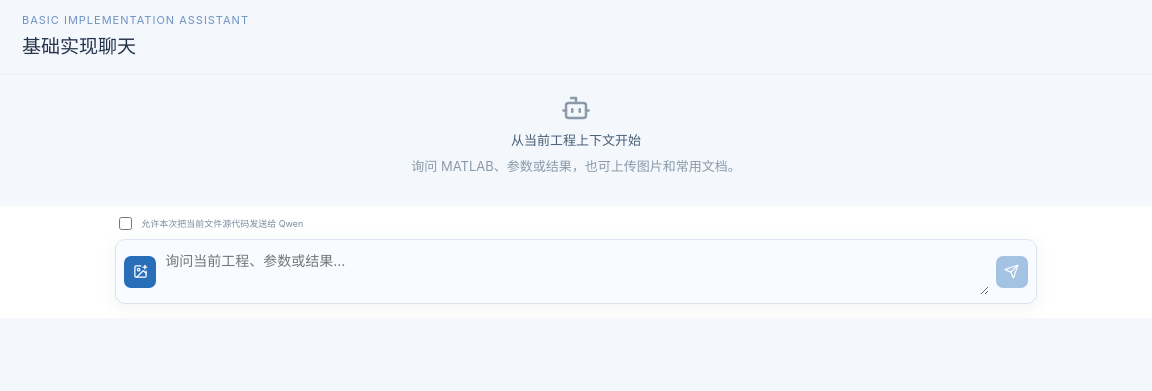
EngineeringChatPanel › does not send file source until the user explicitly consents
Type "解释参数" into the text box with placeholder "询问当前工程、参数或结果…".
click(576, 272); type("解释参数")  # box [163,248,989,295]
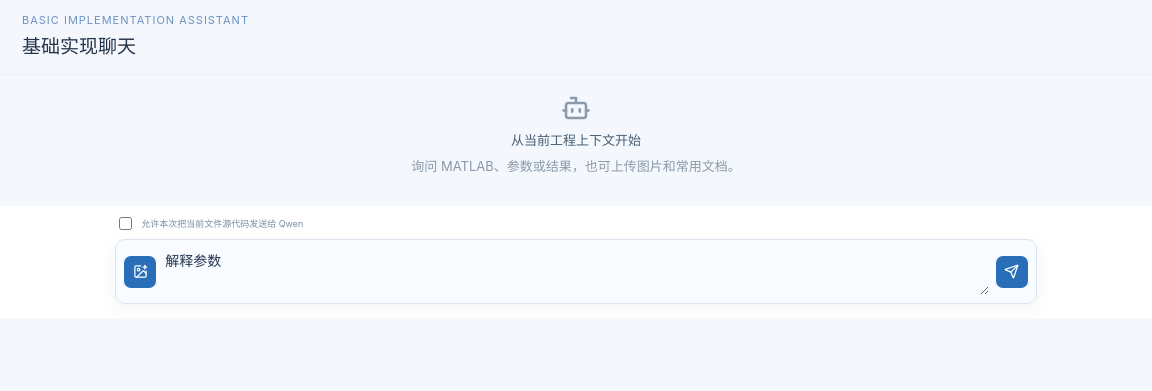
Click the button named "发送聊天消息".
click(1012, 272)  # box [996,256,1028,288]
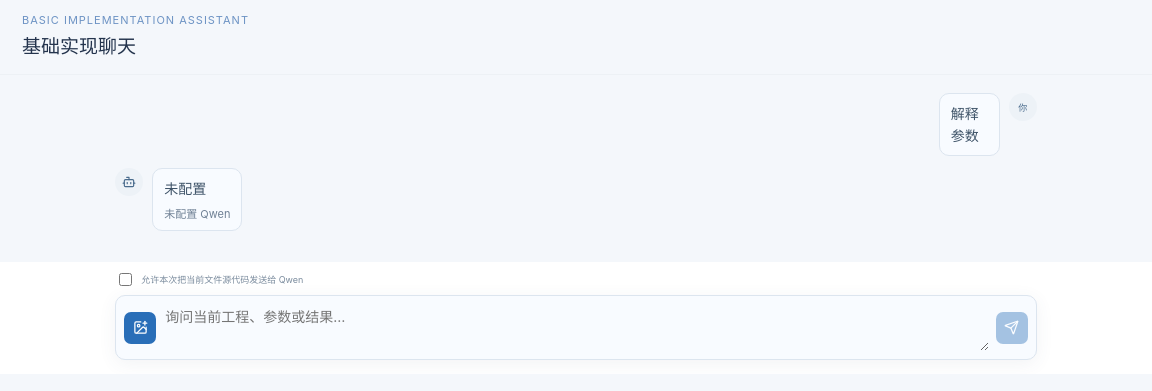
Expected: the text "未配置 Qwen" is shown, [164,205,230,221]
